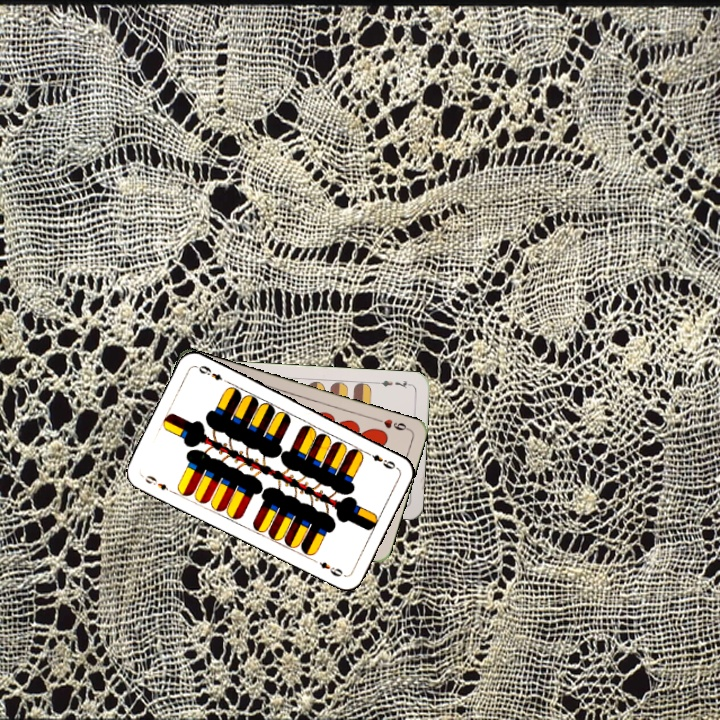E7: (373, 376, 414, 391)
E9: (361, 447, 399, 472), (139, 471, 177, 496)
H9: (372, 414, 412, 433)
